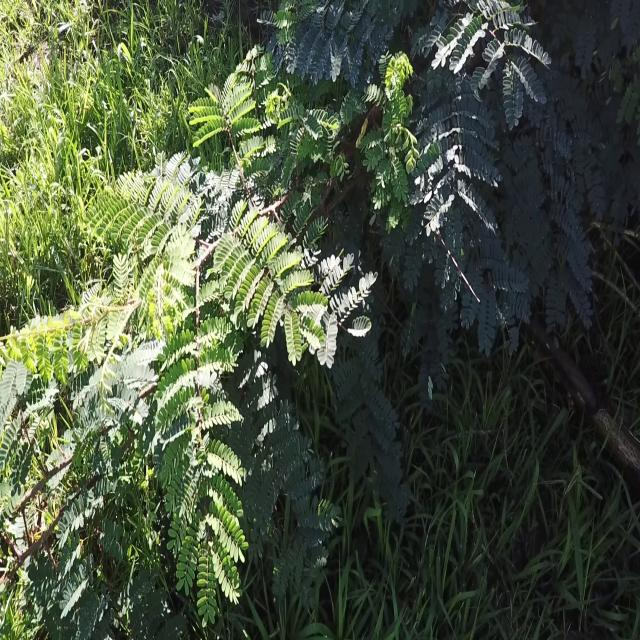Mysore-Thorn-Weed: (0, 51, 378, 605), (280, 0, 634, 360), (0, 339, 205, 627)
